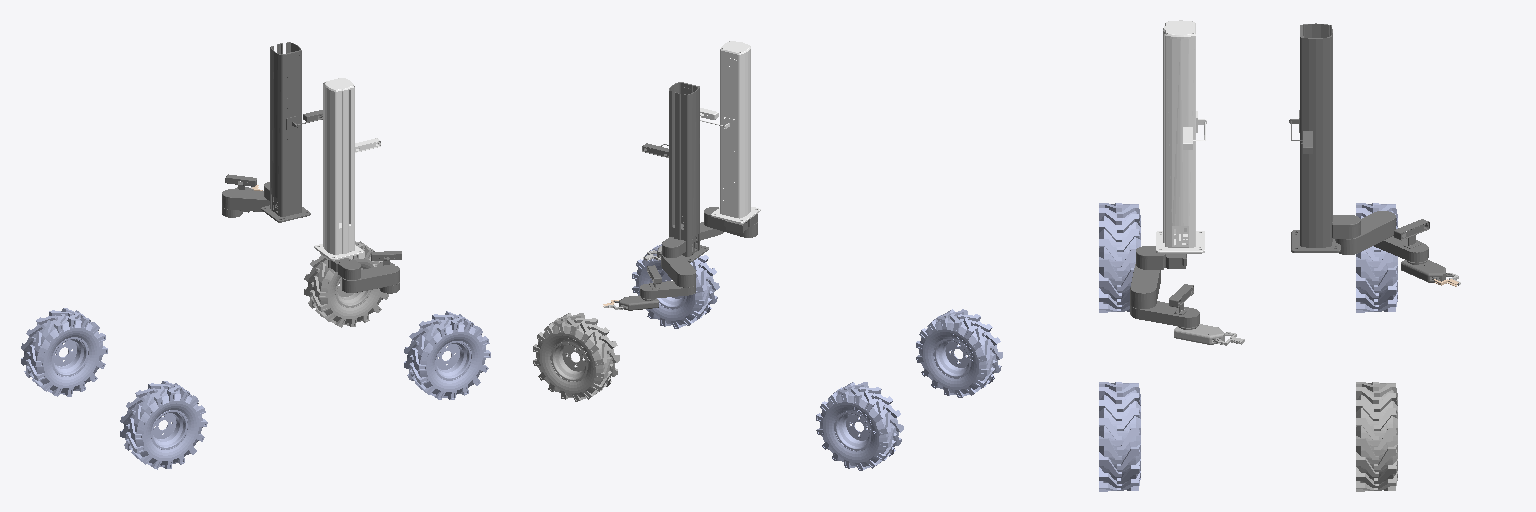
--- What the picture shows (computed from the rendered views, not written in the file) ---
The picture shows the robot from 3 angles, left to right: view 1: azimuth 30°, elevation 25°; view 2: azimuth 150°, elevation 25°; view 3: azimuth 270°, elevation 25°; orthographic projection.
Robot: grape_harvester — 20 links, 19 joints (9 revolute, 1 continuous, 6 prismatic, 3 fixed); root link world; default pose: joints at zero except 2 at the middle of their limits (l_arm_base_l_arm_link1 = 0.5, r_arm_base_r_arm_link_1 = 0.5).
Visible links, largest first — view 1: r_arm_base, l_arm_base, l_wheel_back, r_wheel_front, r_wheel_back, l_wheel_front, r_arm_link_2, l_arm_link_2, r_arm_link_1; view 2: r_arm_base, l_arm_base, l_wheel_back, r_wheel_back, l_wheel_front, r_wheel_front, l_arm_link_3, l_arm_link_2, r_arm_link_2; view 3: r_arm_base, l_arm_base, l_wheel_front, r_wheel_front, r_wheel_back, l_wheel_back, r_arm_link_3, l_arm_link_2, l_arm_link_3, r_arm_link_2, r_arm_link_1, r_arm_gripper_base (+2 smaller).
Link boxes in pixels (box(x1,y1,x2,y2)): r_arm_base: box(314, 78, 380, 260); l_arm_base: box(261, 42, 322, 222); l_wheel_back: box(21, 308, 107, 396); r_wheel_front: box(404, 311, 490, 399); r_wheel_back: box(120, 381, 207, 469); l_wheel_front: box(304, 241, 388, 327); r_arm_link_2: box(342, 265, 399, 292); l_arm_link_2: box(222, 189, 269, 211); r_arm_link_1: box(328, 258, 360, 279); r_arm_base: box(700, 41, 760, 223); l_arm_base: box(642, 82, 708, 262); l_wheel_back: box(816, 382, 903, 470); r_wheel_back: box(916, 309, 1002, 397); l_wheel_front: box(533, 313, 619, 401); r_wheel_front: box(632, 244, 719, 328); l_arm_link_3: box(640, 265, 695, 300); l_arm_link_2: box(661, 254, 695, 287); r_arm_link_2: box(704, 207, 757, 237); r_arm_base: box(1156, 20, 1206, 253); l_arm_base: box(1289, 23, 1340, 252); l_wheel_front: box(1356, 382, 1397, 491); r_wheel_front: box(1099, 382, 1140, 491); r_wheel_back: box(1099, 203, 1140, 312); l_wheel_back: box(1356, 203, 1397, 312); r_arm_link_3: box(1130, 284, 1199, 329); l_arm_link_2: box(1335, 211, 1395, 254); l_arm_link_3: box(1374, 219, 1429, 264); r_arm_link_2: box(1130, 264, 1160, 308); r_arm_link_1: box(1136, 246, 1186, 269); r_arm_gripper_base: box(1174, 309, 1232, 344).
Bounding box of the posed robot: 2.16 × 1.47 × 1.82 m (x, y, z).
Meshes: 19 distinct files referenced, 18 mesh visuals loaded (18 binary STL); not drawn: 1 (reference not matched to a file when rendering).

URDF robot description (grape_harvester):
<?xml version="1.0" encoding="utf-8"?>
<!-- This URDF was automatically created by SolidWorks to URDF Exporter! Originally created by Stephen Brawner ([email redacted]) 
     Commit Version: 1.6.0-1-g15f4949  Build Version: 1.6.7594.29634
     For more information, please see http://wiki.ros.org/sw_urdf_exporter -->
<robot
  name="grape_harvester">
  
<link name="world"/>
<joint name="base_joint" type="fixed">
<parent link="world"/>
<child link="base_link"/>
<origin rpy="0 0 0" xyz="0.0 0.0 0.1"/>
</joint>

  <link
    name="base_link">
    <inertial>
      <origin
        xyz="0.0967240490462767 -6.50785287934191E-06 0.570595021546874"
        rpy="0 0 0" />
      <mass
        value="732.561419245809" />
      <inertia
        ixx="55.0439847447433"
        ixy="0.00105467372527893"
        ixz="-13.2136142377722"
        iyy="215.138264753584"
        iyz="0.00166435387234738"
        izz="233.631575009062" />
    </inertial>
    <visual>
      <origin
        xyz="0 0 0"
        rpy="0 0 0" />
      <geometry>
        <mesh
          filename="package://grape_harvester/meshes/base_link.STL" />
      </geometry>
      <material
        name="">
        <color
          rgba="0.847058823529412 0.847058823529412 0.847058823529412 1" />
      </material>
    </visual>
    <collision>
      <origin
        xyz="0 0 0"
        rpy="0 0 0" />
      <geometry>
        <mesh
          filename="package://grape_harvester/meshes/base_link.STL" />
      </geometry>
    </collision>
  </link>
  <link
    name="l_wheel_front">
    <inertial>
      <origin
        xyz="-2.55500666829223E-05 -0.00431559968288031 2.73318019217081E-05"
        rpy="0 0 0" />
      <mass
        value="15.911327710551" />
      <inertia
        ixx="0.256653495251073"
        ixy="3.3140724675575E-05"
        ixz="3.06050778192663E-05"
        iyy="0.446525377478014"
        iyz="-3.54358257007561E-05"
        izz="0.256649431563068" />
    </inertial>
    <visual>
      <origin
        xyz="0 0 0"
        rpy="0 0 0" />
      <geometry>
        <mesh
          filename="package://grape_harvester/meshes/l_wheel_front.STL" />
      </geometry>
      <material
        name="">
        <color
          rgba="0.764705882352941 0.764705882352941 0.764705882352941 1" />
      </material>
    </visual>
    <collision>
      <origin
        xyz="0 0 0"
        rpy="0 0 0" />
      <geometry>
        <mesh
          filename="package://grape_harvester/meshes/l_wheel_front.STL" />
      </geometry>
    </collision>
  </link>
  <joint
    name="base_l_wheel_front"
    type="continuous">
    <origin
      xyz="0.860000000000001 0.52594220962433 0.2225"
      rpy="0 0 0" />
    <parent
      link="base_link" />
    <child
      link="l_wheel_front" />
    <axis
      xyz="0 -1 0" />
    <limit
      lower="-1000000"
      upper="1000000"
      effort="500000"
      velocity="1000000" />
  </joint>
  <link
    name="r_wheel_front">
    <inertial>
      <origin
        xyz="-2.55500666830333E-05 0.0026266099414507 2.73318019217428E-05"
        rpy="0 0 0" />
      <mass
        value="15.911327710551" />
      <inertia
        ixx="0.256653495251073"
        ixy="3.31407246756975E-05"
        ixz="3.06050778195992E-05"
        iyy="0.446525377478014"
        iyz="-3.54358257008335E-05"
        izz="0.256649431563068" />
    </inertial>
    <visual>
      <origin
        xyz="0 0 0"
        rpy="0 0 0" />
      <geometry>
        <mesh
          filename="package://grape_harvester/meshes/r_wheel_front.STL" />
      </geometry>
      <material
        name="">
        <color
          rgba="0.792156862745098 0.819607843137255 0.933333333333333 1" />
      </material>
    </visual>
    <collision>
      <origin
        xyz="0 0 0"
        rpy="0 0 0" />
      <geometry>
        <mesh
          filename="package://grape_harvester/meshes/r_wheel_front.STL" />
      </geometry>
    </collision>
  </link>
  <joint
    name="base_r_wheel_front"
    type="revolute">
    <origin
      xyz="0.860000000000001 -0.524999999999999 0.2225"
      rpy="0 0 0" />
    <parent
      link="base_link" />
    <child
      link="r_wheel_front" />
    <axis
      xyz="0 1 0" />
    <limit
      lower="-1000000"
      upper="1000000"
      effort="50000"
      velocity="50000" />
  </joint>
  <link
    name="l_wheel_back">
    <inertial>
      <origin
        xyz="-2.55500666831443E-05 -0.00337339005854942 2.73318019219163E-05"
        rpy="0 0 0" />
      <mass
        value="15.911327710551" />
      <inertia
        ixx="0.256653495251073"
        ixy="3.31407246756706E-05"
        ixz="3.060507781945E-05"
        iyy="0.446525377478015"
        iyz="-3.54358257008435E-05"
        izz="0.256649431563068" />
    </inertial>
    <visual>
      <origin
        xyz="0 0 0"
        rpy="0 0 0" />
      <geometry>
        <mesh
          filename="package://grape_harvester/meshes/l_wheel_back.STL" />
      </geometry>
      <material
        name="">
        <color
          rgba="0.792156862745098 0.819607843137255 0.933333333333333 1" />
      </material>
    </visual>
    <collision>
      <origin
        xyz="0 0 0"
        rpy="0 0 0" />
      <geometry>
        <mesh
          filename="package://grape_harvester/meshes/l_wheel_back.STL" />
      </geometry>
    </collision>
  </link>
  <joint
    name="base_l_wheel_back"
    type="revolute">
    <origin
      xyz="-0.86 0.525 0.2225"
      rpy="0 0 0" />
    <parent
      link="base_link" />
    <child
      link="l_wheel_back" />
    <axis
      xyz="0 -1 0" />
    <limit
      lower="-1000000"
      upper="1000000"
      effort="50000"
      velocity="50000" />
  </joint>
  <link
    name="r_wheel_back">
    <inertial>
      <origin
        xyz="-2.55500666828112E-05 0.0026266099414507 2.73318019219232E-05"
        rpy="0 0 0" />
      <mass
        value="15.911327710551" />
      <inertia
        ixx="0.256653495251073"
        ixy="3.31407246756906E-05"
        ixz="3.06050778196901E-05"
        iyy="0.446525377478014"
        iyz="-3.54358257007742E-05"
        izz="0.256649431563068" />
    </inertial>
    <visual>
      <origin
        xyz="0 0 0"
        rpy="0 0 0" />
      <geometry>
        <mesh
          filename="package://grape_harvester/meshes/r_wheel_back.STL" />
      </geometry>
      <material
        name="">
        <color
          rgba="0.792156862745098 0.819607843137255 0.933333333333333 1" />
      </material>
    </visual>
    <collision>
      <origin
        xyz="0 0 0"
        rpy="0 0 0" />
      <geometry>
        <mesh
          filename="package://grape_harvester/meshes/r_wheel_back.STL" />
      </geometry>
    </collision>
  </link>
  <joint
    name="base_r_wheel_back"
    type="revolute">
    <origin
      xyz="-0.86 -0.524999999999999 0.2225"
      rpy="0 0 0" />
    <parent
      link="base_link" />
    <child
      link="r_wheel_back" />
    <axis
      xyz="0 1 0" />
    <limit
      lower="-1000000"
      upper="1000000"
      effort="50000"
      velocity="50000" />
  </joint>
  <link
    name="l_arm_base">
    <inertial>
      <origin
        xyz="0.00256843341346769 -0.0158345747114657 0.414282618946152"
        rpy="0 0 0" />
      <mass
        value="0.0001" />
      <inertia
        ixx="0.00001"
        ixy="0.0001"
        ixz="0.001"
        iyy="0.00001"
        iyz="0.0000000001"
        izz="0.00001" />
    </inertial>
    <visual>
      <origin
        xyz="0 0 0"
        rpy="0 0 0" />
      <geometry>
        <mesh
          filename="package://grape_harvester/meshes/l_arm_base.STL" />
      </geometry>
      <material
        name="">
        <color
          rgba="0.564705882352941 0.564705882352941 0.564705882352941 1" />
      </material>
    </visual>
    <collision>
      <origin
        xyz="0 0 0"
        rpy="0 0 0" />
      <geometry>
        <mesh
          filename="package://grape_harvester/meshes/l_arm_base.STL" />
      </geometry>
    </collision>
  </link>
  <joint
    name="base_l_arm_base"
    type="fixed">
    <origin
      xyz="0.345503212092889 0.275067184842277 0.8625"
      rpy="0 0 0" />
    <parent
      link="base_link" />
    <child
      link="l_arm_base" />
    <axis
      xyz="0 0 0" />
  </joint>
  <link
    name="l_arm_link_1">
    <inertial>
      <origin
        xyz="0.000125636870732693 0.0804188199429271 -0.0372240719211021"
        rpy="0 0 0" />
      <mass
        value="0.00001" />
      <inertia
        ixx="0.0034290734895918"
        ixy="1.44752336404464E-05"
        ixz="2.09107970542603E-06"
        iyy="0.000950241498545379"
        iyz="7.33029796466367E-05"
        izz="0.0039252957485201" />
    </inertial>
    <visual>
      <origin
        xyz="0 0 0"
        rpy="0 0 0" />
      <geometry>
        <mesh
          filename="package://grape_harvester/meshes/l_arm_link_1.STL" />
      </geometry>
      <material
        name="">
        <color
          rgba="0.564705882352941 0.564705882352941 0.564705882352941 1" />
      </material>
    </visual>
    <collision>
      <origin
        xyz="0 0 0"
        rpy="0 0 0" />
      <geometry>
        <mesh
          filename="package://grape_harvester/meshes/l_arm_link_1.STL" />
      </geometry>
    </collision>
  </link>
  <joint
    name="l_arm_base_l_arm_link1"
    type="prismatic">
    <origin
      xyz="0 0 0.593759108516829"
      rpy="0 0 0" />
    <parent
      link="l_arm_base" />
    <child
      link="l_arm_link_1" />
    <axis
      xyz="0 0 -1" />
    <limit
      lower="0.3"
      upper="0.7"
      effort="300"
      velocity="3" />
  </joint>
  <link
    name="l_arm_link_2">
    <inertial>
      <origin
        xyz="-0.0854570113219302 0.0709105321317886 -0.0984483167347361"
        rpy="0 0 0" />
      <mass
        value="0.000001" />
      <inertia
        ixx="0.00866799275524474"
        ixy="0.00727661797303508"
        ixz="-7.28447678409944E-05"
        iyy="0.0113873692649047"
        iyz="6.03025196983541E-05"
        izz="0.0186444325786857" />
    </inertial>
    <visual>
      <origin
        xyz="0 0 0"
        rpy="0 0 0" />
      <geometry>
        <mesh
          filename="package://grape_harvester/meshes/l_arm_link_2.STL" />
      </geometry>
      <material
        name="">
        <color
          rgba="0.564705882352941 0.564705882352941 0.564705882352941 1" />
      </material>
    </visual>
    <collision>
      <origin
        xyz="0 0 0"
        rpy="0 0 0" />
      <geometry>
        <mesh
          filename="package://grape_harvester/meshes/l_arm_link_2.STL" />
      </geometry>
    </collision>
  </link>
  <joint
    name="l_arm_link_1_l_arm_link_2"
    type="revolute">
    <origin
      xyz="-2.38538024483481E-05 0.131932815157645 -0.00200000000005285"
      rpy="0 0 0" />
    <parent
      link="l_arm_link_1" />
    <child
      link="l_arm_link_2" />
    <axis
      xyz="0 0 1" />
    <limit
      lower="-3.14"
      upper="3.14"
      effort="300"
      velocity="3" />
  </joint>
  <link
    name="l_arm_link_3">
    <inertial>
      <origin
        xyz="0.0699396065905298 -0.0737302141498409 -0.0926276756075906"
        rpy="0 0 0" />
      <mass
        value="0.000001" />
      <inertia
        ixx="0.00546308340369261"
        ixy="0.00380182327080884"
        ixz="1.8574177541259E-05"
        iyy="0.00506145717588312"
        iyz="-1.95812221911354E-05"
        izz="0.0100016298513614" />
    </inertial>
    <visual>
      <origin
        xyz="0 0 0"
        rpy="0 0 0" />
      <geometry>
        <mesh
          filename="package://grape_harvester/meshes/l_arm_link_3.STL" />
      </geometry>
      <material
        name="">
        <color
          rgba="0.564705882352941 0.564705882352941 0.564705882352941 1" />
      </material>
    </visual>
    <collision>
      <origin
        xyz="0 0 0"
        rpy="0 0 0" />
      <geometry>
        <mesh
          filename="package://grape_harvester/meshes/l_arm_link_3.STL" />
      </geometry>
    </collision>
  </link>
  <joint
    name="l_arm_link_2_l_arm_link_3"
    type="revolute">
    <origin
      xyz="-0.16927333898573 0.140522370848582 -0.0629999999999309"
      rpy="0 0 1.5707963267949" />
    <parent
      link="l_arm_link_2" />
    <child
      link="l_arm_link_3" />
    <axis
      xyz="0 0 1" />
    <limit
      lower="-3.14"
      upper="3.14"
      effort="300"
      velocity="3" />
  </joint>
  <link
    name="gripper_base">
    <inertial>
      <origin
        xyz="0.0417656890379301 -0.0440296352379507 -0.0818516657835081"
        rpy="0 0 0" />
      <mass
        value="0.00001" />
      <inertia
        ixx="0.000158320167909366"
        ixy="4.98951547405742E-05"
        ixz="4.08521109394344E-06"
        iyy="0.0001530507624686"
        iyz="-4.3048628224785E-06"
        izz="0.000264761402018064" />
    </inertial>
    <visual>
      <origin
        xyz="0 0 0"
        rpy="0 0 0" />
      <geometry>
        <mesh
          filename="package://grape_harvester/meshes/gripper_base.STL" />
      </geometry>
      <material
        name="">
        <color
          rgba="0.564705882352941 0.564705882352941 0.564705882352941 1" />
      </material>
    </visual>
    <collision>
      <origin
        xyz="0 0 0"
        rpy="0 0 0" />
      <geometry>
        <mesh
          filename="package://grape_harvester/meshes/gripper_base.STL" />
      </geometry>
    </collision>
  </link>
  <joint
    name="l_arm_link3_gripper_base"
    type="revolute">
    <origin
      xyz="0.137641878611459 -0.145102423315937 -0.0720000000000072"
      rpy="0 0 0" />
    <parent
      link="l_arm_link_3" />
    <child
      link="gripper_base" />
    <axis
      xyz="0 0 1" />
    <limit
      lower="-3.14"
      upper="3.14"
      effort="300"
      velocity="3" />
  </joint>
  <link
    name="r_finger_l_gripper">
    <inertial>
      <origin
        xyz="-0.0253969129652247 0.0241461215019181 0.000850862451540646"
        rpy="0 0 0" />
      <mass
        value="0.000001" />
      <inertia
        ixx="4.37396734706745E-06"
        ixy="2.16963471246922E-06"
        ixz="4.42617514527407E-10"
        iyy="2.62421421445249E-06"
        iyz="9.63789542250555E-15"
        izz="6.67238241923964E-06" />
    </inertial>
    <visual>
      <origin
        xyz="0 0 0"
        rpy="0 0 0" />
      <geometry>
        <mesh
          filename="package://grape_harvester/meshes/r_finger_l_gripper.STL" />
      </geometry>
      <material
        name="">
        <color
          rgba="1 0.898039215686275 0.8 1" />
      </material>
    </visual>
    <collision>
      <origin
        xyz="0 0 0"
        rpy="0 0 0" />
      <geometry>
        <mesh
          filename="package://grape_harvester/meshes/r_finger_l_gripper.STL" />
      </geometry>
    </collision>
  </link>
  <joint
    name="l_gripper_base_r_finger"
    type="prismatic">
    <origin
      xyz="0.15154 -0.15976 -0.083309"
      rpy="0 0 0.75902" />
    <parent
      link="gripper_base" />
    <child
      link="r_finger_l_gripper" />
    <axis
      xyz="-1 0 0" />
    <limit
      lower="-0.1"
      upper="0.1"
      effort="300"
      velocity="3" />
  </joint>
  <link
    name="l_finger_l_gripper">
    <inertial>
      <origin
        xyz="0.020192 0.017186 0.00040932"
        rpy="0 0 0" />
      <mass
        value="0.00001" />
      <inertia
        ixx="5.3311E-06"
        ixy="-2.1696E-06"
        ixz="-5.2811E-14"
        iyy="2.7276E-06"
        iyz="1.1384E-12"
        izz="7.6616E-06" />
    </inertial>
    <visual>
      <origin
        xyz="0 0 0"
        rpy="0 0 0" />
      <geometry>
        <mesh
          filename="package://grape_harvester/meshes/l_finger_l_gripper.STL" />
      </geometry>
      <material
        name="">
        <color
          rgba="0.84706 0.84706 0.84706 1" />
      </material>
    </visual>
    <collision>
      <origin
        xyz="0 0 0"
        rpy="0 0 0" />
      <geometry>
        <mesh
          filename="package://grape_harvester/meshes/l_finger_l_gripper.STL" />
      </geometry>
    </collision>
  </link>
  <joint
    name="l_gripper_base_l_finger"
    type="prismatic">
    <origin
      xyz="0.15154 -0.15976 -0.083309"
      rpy="0 0 0.75902" />
    <parent
      link="gripper_base" />
    <child
      link="l_finger_l_gripper" />
    <axis
      xyz="-1 0 0" />
    <limit
      lower="-0.1"
      upper="0.1"
      effort="300"
      velocity="3" />
  </joint>
  <link
    name="r_arm_base">
    <inertial>
      <origin
        xyz="0 0 0"
        rpy="0 0 0" />
      <mass
        value="0" />
      <inertia
        ixx="0"
        ixy="0"
        ixz="0"
        iyy="0"
        iyz="0"
        izz="0" />
    </inertial>
    <visual>
      <origin
        xyz="0 0 0"
        rpy="0 0 0" />
      <geometry>
        <mesh
          filename="package://grape_harvester/meshes/r_arm_base.STL" />
      </geometry>
      <material
        name="">
        <color
          rgba="1 1 1 1" />
      </material>
    </visual>
    <collision>
      <origin
        xyz="0 0 0"
        rpy="0 0 0" />
      <geometry>
        <mesh
          filename="package://grape_harvester/meshes/r_arm_base.STL" />
      </geometry>
    </collision>
  </link>
  <joint
    name="base_r_arm_base"
    type="fixed">
    <origin
      xyz="0.349976146197634 -0.275067184842277 0.8625"
      rpy="0 0 0" />
    <parent
      link="base_link" />
    <child
      link="r_arm_base" />
    <axis
      xyz="0 0 0" />
  </joint>
  <link
    name="r_arm_link_1">
    <inertial>
      <origin
        xyz="-0.000125636870781154 -0.0804188199429695 -0.0372240719211019"
        rpy="0 0 0" />
      <mass
        value="0.99376961560053" />
      <inertia
        ixx="0.00342907348959179"
        ixy="1.44752336404471E-05"
        ixz="-2.09107970542583E-06"
        iyy="0.000950241498545383"
        iyz="-7.330297964664E-05"
        izz="0.00392529574852009" />
    </inertial>
    <visual>
      <origin
        xyz="0 0 0"
        rpy="0 0 0" />
      <geometry>
        <mesh
          filename="package://grape_harvester/meshes/r_arm_link_1.STL" />
      </geometry>
      <material
        name="">
        <color
          rgba="0.564705882352941 0.564705882352941 0.564705882352941 1" />
      </material>
    </visual>
    <collision>
      <origin
        xyz="0 0 0"
        rpy="0 0 0" />
      <geometry>
        <mesh
          filename="package://grape_harvester/meshes/r_arm_link_1.STL" />
      </geometry>
    </collision>
  </link>
  <joint
    name="r_arm_base_r_arm_link_1"
    type="prismatic">
    <origin
      xyz="0 0 0.455999999999899"
      rpy="0 0 0" />
    <parent
      link="r_arm_base" />
    <child
      link="r_arm_link_1" />
    <axis
      xyz="0 0 -1" />
    <limit
      lower="0.3"
      upper="0.7"
      effort="300"
      velocity="3" />
  </joint>
  <link
    name="r_arm_link_2">
    <inertial>
      <origin
        xyz="0.110638958296988 -0.00949870182453172 -0.0984483168531515"
        rpy="0 0 0" />
      <mass
        value="2.16979338725361" />
      <inertia
        ixx="0.00273445011587975"
        ixy="0.00126755844621284"
        ixz="9.4228868476365E-05"
        iyy="0.0173209120460984"
        iyz="-7.97968333694525E-06"
        izz="0.0186444327205125" />
    </inertial>
    <visual>
      <origin
        xyz="0 0 0"
        rpy="0 0 0" />
      <geometry>
        <mesh
          filename="package://grape_harvester/meshes/r_arm_link_2.STL" />
      </geometry>
      <material
        name="">
        <color
          rgba="0.564705882352941 0.564705882352941 0.564705882352941 1" />
      </material>
    </visual>
    <collision>
      <origin
        xyz="0 0 0"
        rpy="0 0 0" />
      <geometry>
        <mesh
          filename="package://grape_harvester/meshes/r_arm_link_2.STL" />
      </geometry>
    </collision>
  </link>
  <joint
    name="r_arm_link_1_r_arm_link_2"
    type="revolute">
    <origin
      xyz="2.38538023998869E-05 -0.131932815157687 -0.00200000000005285"
      rpy="0 0 0" />
    <parent
      link="r_arm_link_1" />
    <child
      link="r_arm_link_2" />
    <axis
      xyz="0 0 1" />
    <limit
      lower="-3.14"
      upper="3.14"
      effort="300"
      velocity="3" />
  </joint>
  <link
    name="r_arm_link_3">
    <inertial>
      <origin
        xyz="0.0431771728754073 0.0947109741374368 -0.0895746798248389"
        rpy="0 0 0" />
      <mass
        value="1.51944277714983" />
      <inertia
        ixx="0.00779168094949869"
        ixy="-0.00282823353959421"
        ixz="1.04013867884703E-05"
        iyy="0.00287734902626482"
        iyz="2.50711318504381E-05"
        izz="0.0101312773842739" />
    </inertial>
    <visual>
      <origin
        xyz="0 0 0"
        rpy="0 0 0" />
      <geometry>
        <mesh
          filename="package://grape_harvester/meshes/r_arm_link_3.STL" />
      </geometry>
      <material
        name="">
        <color
          rgba="0.564705882352941 0.564705882352941 0.564705882352941 1" />
      </material>
    </visual>
    <collision>
      <origin
        xyz="0 0 0"
        rpy="0 0 0" />
      <geometry>
        <mesh
          filename="package://grape_harvester/meshes/r_arm_link_3.STL" />
      </geometry>
    </collision>
  </link>
  <joint
    name="r_arm_link_2_r_arm_link_3"
    type="revolute">
    <origin
      xyz="0.219189537435978 -0.0188665492047488 -0.0629999999999324"
      rpy="0 0 0" />
    <parent
      link="r_arm_link_2" />
    <child
      link="r_arm_link_3" />
    <axis
      xyz="0 0 1" />
    <limit
      lower="-3.14"
      upper="3.14"
      effort="300"
      velocity="3" />
  </joint>
  <link
    name="r_arm_gripper_base">
    <inertial>
      <origin
        xyz="0.0521148210779366 -0.0240205898391851 -0.0822842118271684"
        rpy="0 0 0" />
      <mass
        value="0.149380329868679" />
      <inertia
        ixx="0.000127476928748419"
        ixy="3.79028930298664E-05"
        ixz="5.40933294687371E-06"
        iyy="0.000193341890041489"
        iyz="-2.46472178566827E-06"
        izz="0.000269777657282667" />
    </inertial>
    <visual>
      <origin
        xyz="0 0 0"
        rpy="0 0 0" />
      <geometry>
        <mesh
          filename="package://grape_harvester/meshes/r_arm_gripper_base.STL" />
      </geometry>
      <material
        name="">
        <color
          rgba="0.752941176470588 0.752941176470588 0.752941176470588 1" />
      </material>
    </visual>
    <collision>
      <origin
        xyz="0 0 0"
        rpy="0 0 0" />
      <geometry>
        <mesh
          filename="package://grape_harvester/meshes/r_arm_gripper_base.STL" />
      </geometry>
    </collision>
  </link>
  <joint
    name="r_arm_link_3_r_arm_gripper_base"
    type="revolute">
    <origin
      xyz="0.0829629163109964 0.181981192756639 -0.0719999999999965"
      rpy="0 0 1.5707963267949" />
    <parent
      link="r_arm_link_3" />
    <child
      link="r_arm_gripper_base" />
    <axis
      xyz="0 0 1" />
    <limit
      lower="-3.14"
      upper="3.14"
      effort="300"
      velocity="3" />
  </joint>
  <link
    name="r_gripper_l_finger">
    <inertial>
      <origin
        xyz="0.02019173270199 0.0173408266589892 0.000100073144415291"
        rpy="0 0 0" />
      <mass
        value="0.0155284591580667" />
      <inertia
        ixx="5.33107508612748E-06"
        ixy="-2.16963471071172E-06"
        ixz="-5.78919974202937E-14"
        iyy="2.72756180168153E-06"
        iyz="1.13591600331747E-12"
        izz="7.66157733174381E-06" />
    </inertial>
    <visual>
      <origin
        xyz="0 0 0"
        rpy="0 0 0" />
      <geometry>
        <mesh
          filename="package://grape_harvester/meshes/r_gripper_l_finger.STL" />
      </geometry>
      <material
        name="">
        <color
          rgba="0.847058823529412 0.847058823529412 0.847058823529412 1" />
      </material>
    </visual>
    <collision>
      <origin
        xyz="0 0 0"
        rpy="0 0 0" />
      <geometry>
        <mesh
          filename="package://grape_harvester/meshes/r_gripper_l_finger.STL" />
      </geometry>
    </collision>
  </link>
  <joint
    name="r_gripper_base_l_finger"
    type="prismatic">
    <origin
      xyz="0.200502478521291 -0.0914065354437857 -0.0830000734394419"
      rpy="0 0 1.14305731087788" />
    <parent
      link="r_arm_gripper_base" />
    <child
      link="r_gripper_l_finger" />
    <axis
      xyz="-1 0 0" />
    <limit
      lower="0"
      upper="0.1"
      effort="300"
      velocity="3" />
  </joint>
  <link
    name="r_gripper_r_finger">
    <inertial>
      <origin
        xyz="-0.0195761331228346 0.016536304141361 0.000399847238456874"
        rpy="0 0 0" />
      <mass
        value="0.0162893218523249" />
      <inertia
        ixx="5.48940286216819E-06"
        ixy="2.16963469343169E-06"
        ixz="4.42630322994917E-10"
        iyy="2.7499483324012E-06"
        iyz="-1.14140073654552E-12"
        izz="7.84217510614175E-06" />
    </inertial>
    <visual>
      <origin
        xyz="0 0 0"
        rpy="0 0 0" />
      <geometry>
        <mesh
          filename="package://grape_harvester/meshes/r_gripper_r_finger.STL" />
      </geometry>
      <material
        name="">
        <color
          rgba="0.847058823529412 0.847058823529412 0.847058823529412 1" />
      </material>
    </visual>
    <collision>
      <origin
        xyz="0 0 0"
        rpy="0 0 0" />
      <geometry>
        <mesh
          filename="package://grape_harvester/meshes/r_gripper_r_finger.STL" />
      </geometry>
    </collision>
  </link>
  <joint
    name="r_gripper_base_r_finger"
    type="prismatic">
    <origin
      xyz="0.200502478521291 -0.0914065354437857 -0.0830000734394419"
      rpy="0 0 1.14305731087788" />
    <parent
      link="r_arm_gripper_base" />
    <child
      link="r_gripper_r_finger" />
    <axis
      xyz="-1 0 0" />
    <limit
      lower="0"
      upper="0.1"
      effort="300"
      velocity="3" />
  </joint>
</robot>
